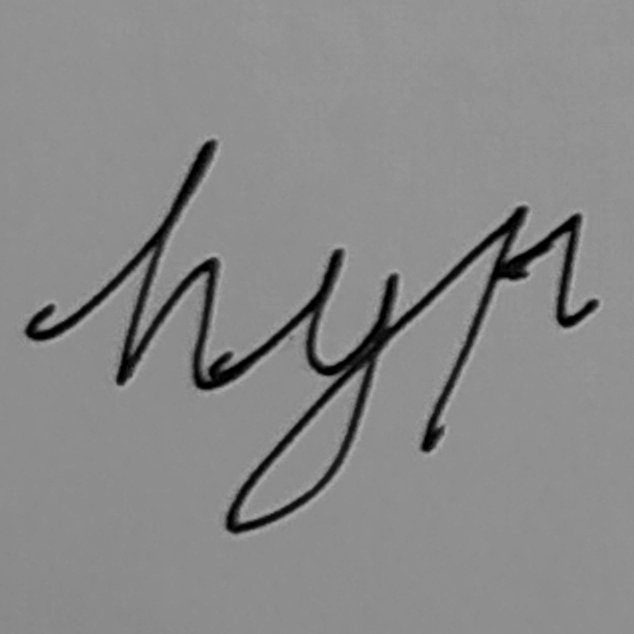h: (109, 135, 221, 395)
p: (415, 201, 587, 459)
y: (221, 241, 403, 535)
